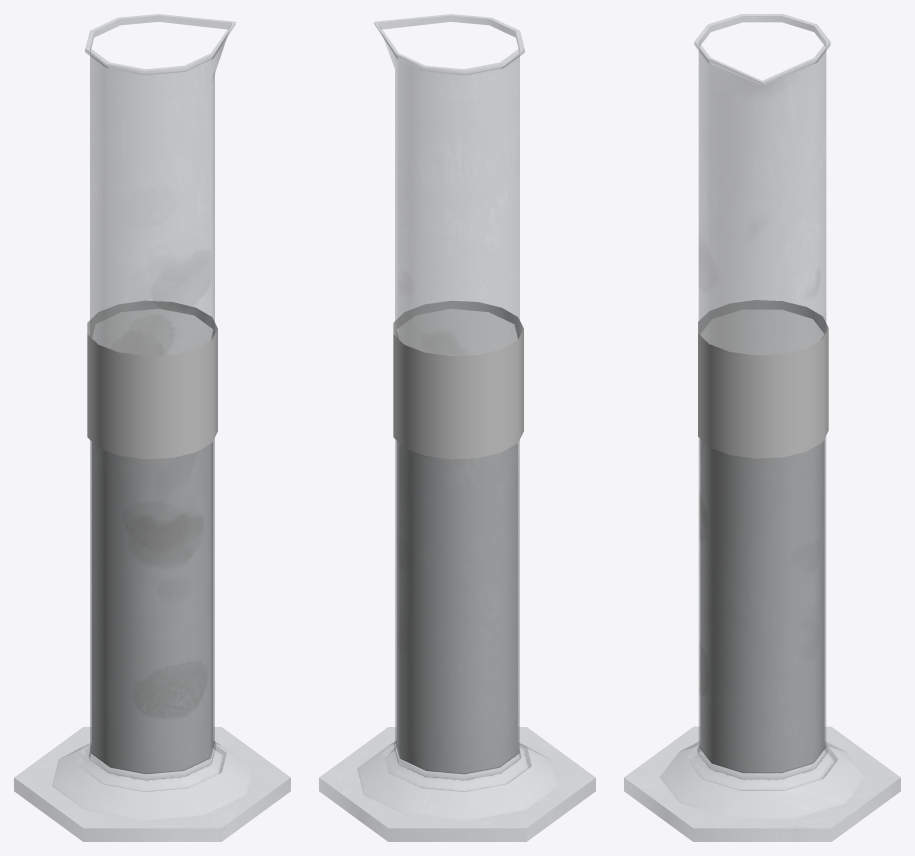
Rendered from TLLGraduatedCylinderNewLabel.glb.
3 renders of one model, left to right at view 1: azimuth 30°, elevation 25°; view 2: azimuth 150°, elevation 25°; view 3: azimuth 270°, elevation 25°, orthographic.
Parts seen in each view (by area): view 1: BeakerwOpacityC, BeakerLiquid, Label; view 2: BeakerwOpacityC, BeakerLiquid, Label; view 3: BeakerwOpacityC, BeakerLiquid, Label.
Boxes of the visible parts, x1,y1,x2,y2 form: BeakerwOpacityC: [14, 14, 290, 841]; BeakerLiquid: [91, 309, 213, 774]; Label: [87, 300, 217, 459]; BeakerwOpacityC: [319, 14, 595, 841]; BeakerLiquid: [396, 309, 518, 774]; Label: [393, 300, 523, 459]; BeakerwOpacityC: [624, 14, 900, 841]; BeakerLiquid: [700, 309, 824, 773]; Label: [698, 300, 828, 458].
Bounding box in the file's own units: 0.0863 × 0.2976 × 0.0996.
1 material, 1 textured.
